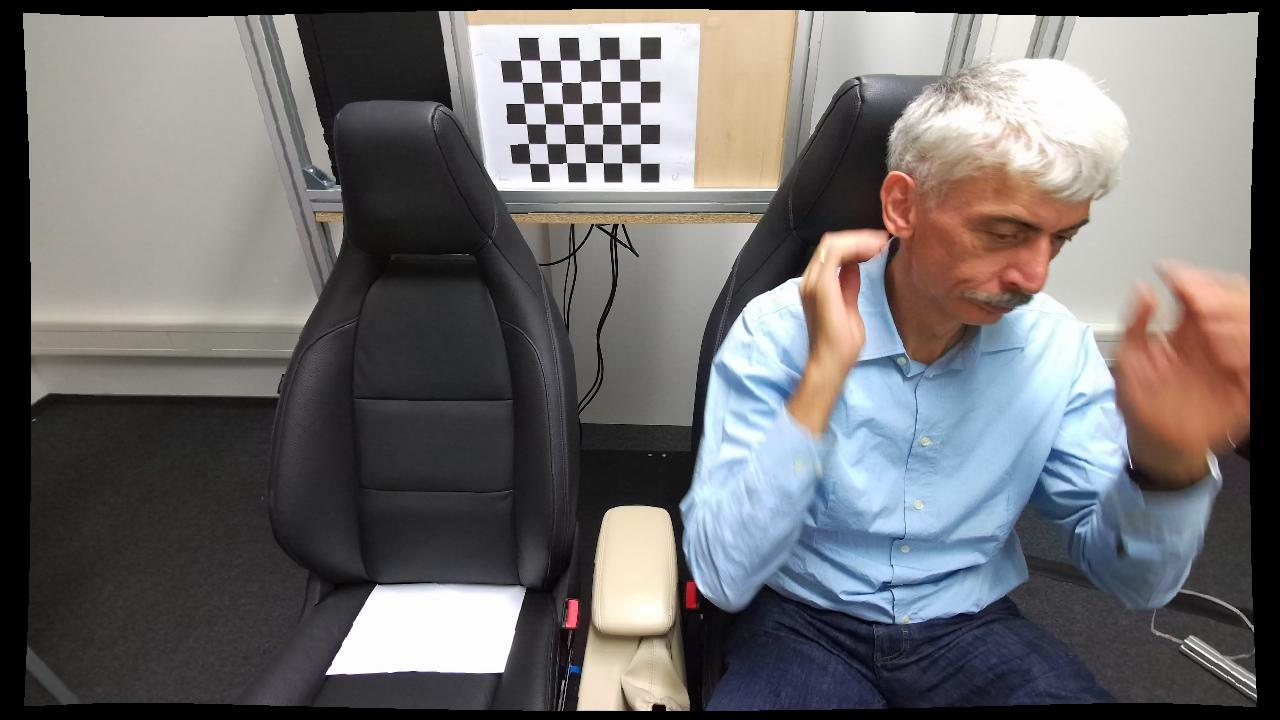Distracted: (683, 60, 1245, 713)
